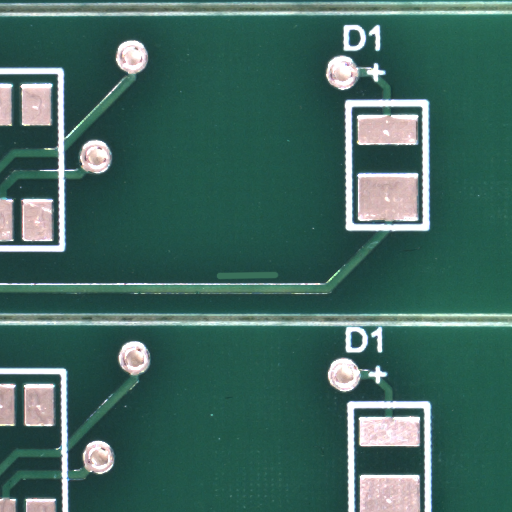Spurious_copper: (247, 275, 308, 289)
